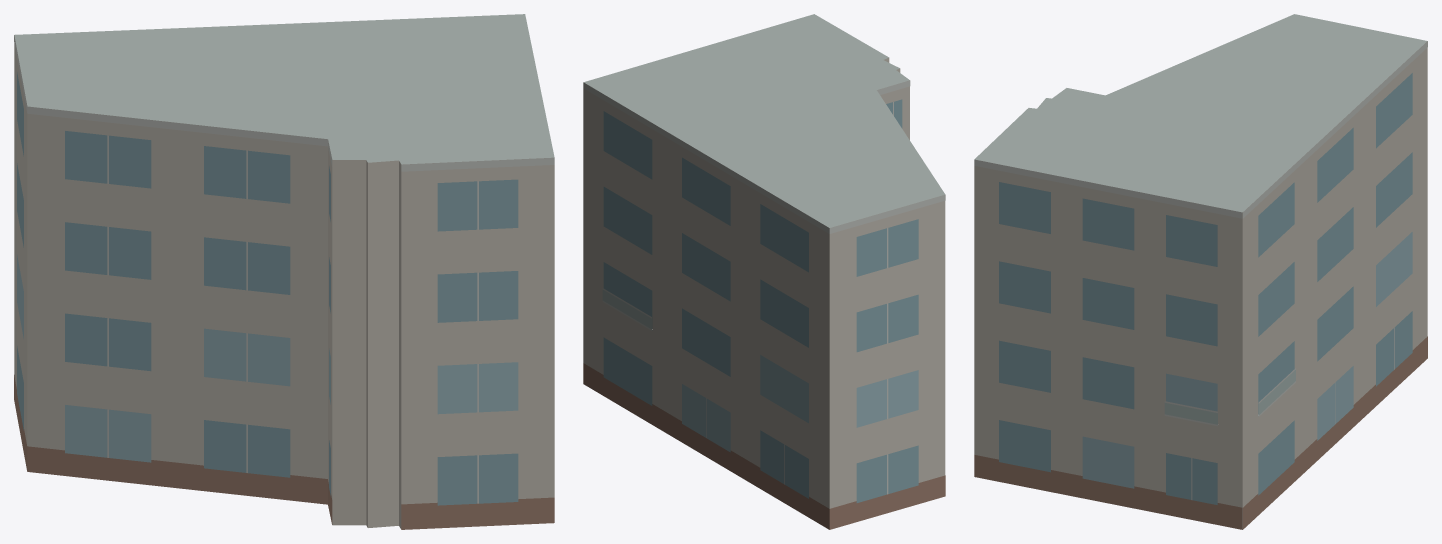
Rendered from survey-upis-32894034.glb.
3 renders of one model, left to right at view 1: azimuth 30°, elevation 25°; view 2: azimuth 150°, elevation 25°; view 3: azimuth 270°, elevation 25°, orthographic. The views are drawn at different scales.
Visible parts, largest first — view 1: survey-upis-32894034.tmp; view 2: survey-upis-32894034.tmp; view 3: survey-upis-32894034.tmp.
Boxes of the visible parts, <box> form: survey-upis-32894034.tmp: <box>14,14,554,529</box>; survey-upis-32894034.tmp: <box>583,14,945,529</box>; survey-upis-32894034.tmp: <box>974,14,1427,529</box>.
Size of the model in its own units: 16.36 by 12.2 by 15.8.
